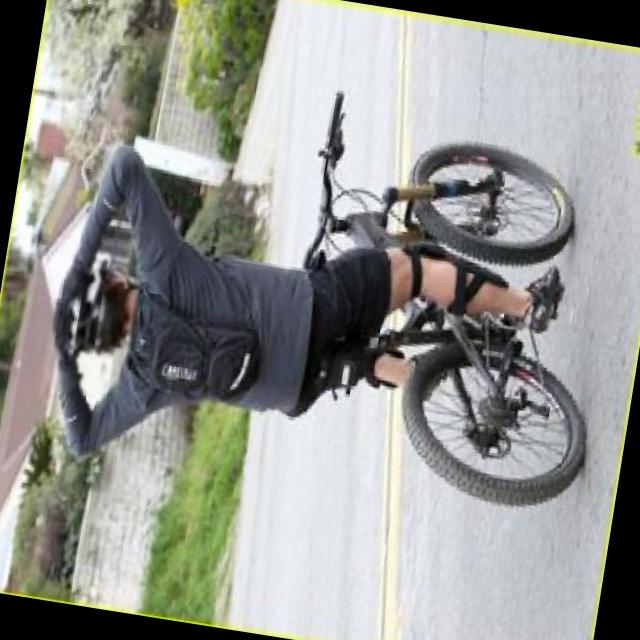With Helmet: (37, 235, 149, 401)
